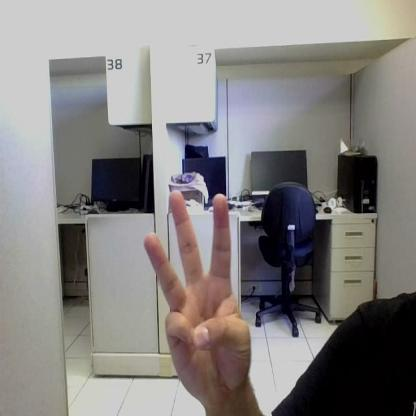W: (145, 191, 250, 397)
